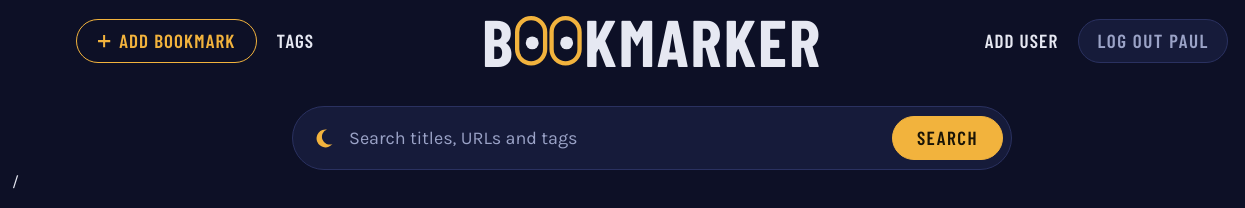
Test: Header › searches by navigating to /results?q=
Type "kanban board" into the search field named "Search bookmarks". click: x=613, y=138
box: [349,116,878,160]
Then press Enter
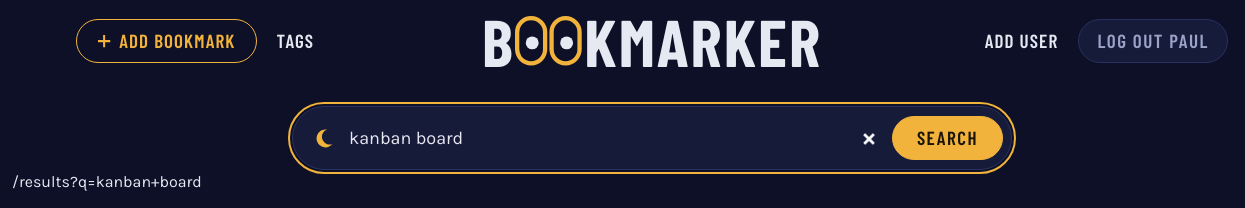
expect the text with test id "location" reads "/results?q=kanban+board": met, box [12,172,202,191]
